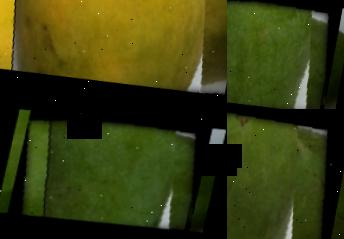PartiallyRipe: (0, 0, 227, 106)
Unripe: (10, 109, 210, 237), (227, 109, 344, 239), (227, 0, 340, 109)
